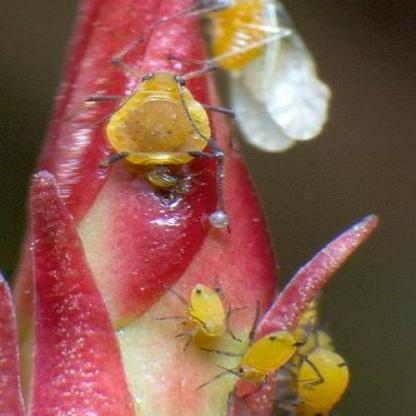aphid: (191, 3, 341, 155), (105, 44, 241, 187), (227, 319, 312, 386), (289, 326, 350, 414), (175, 279, 244, 352)
